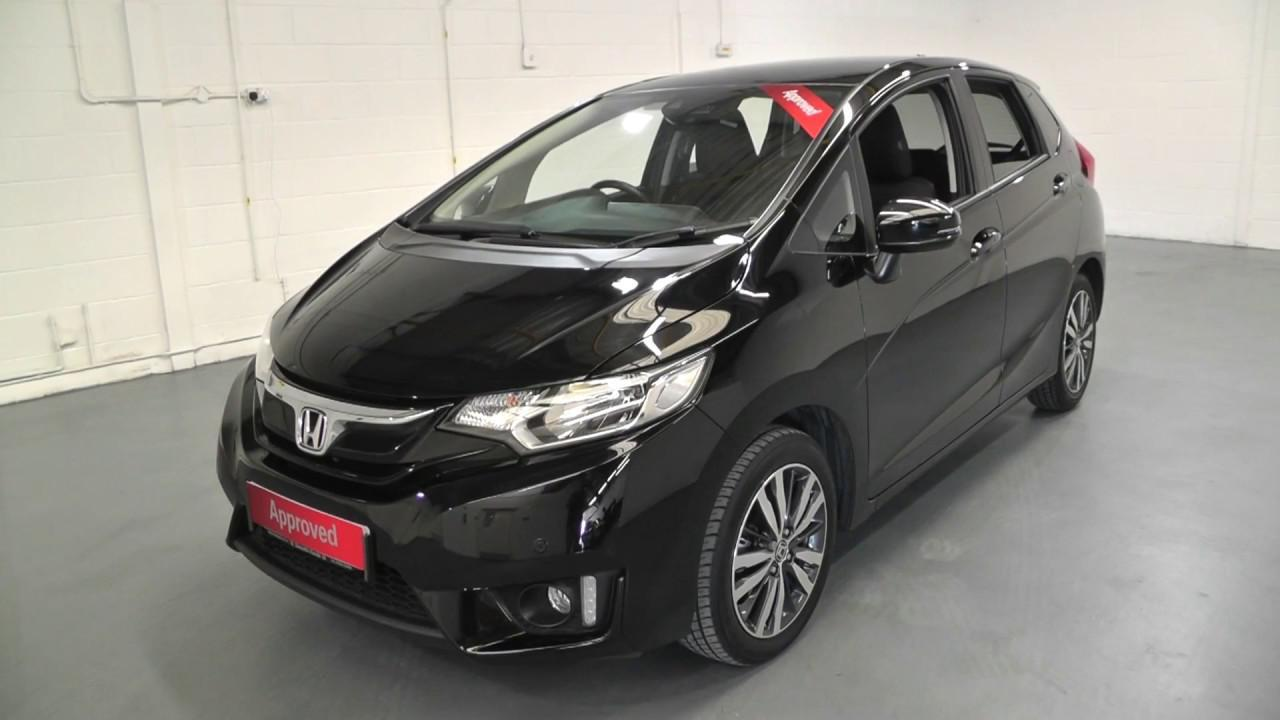Hatchback: (202, 35, 1118, 686)
